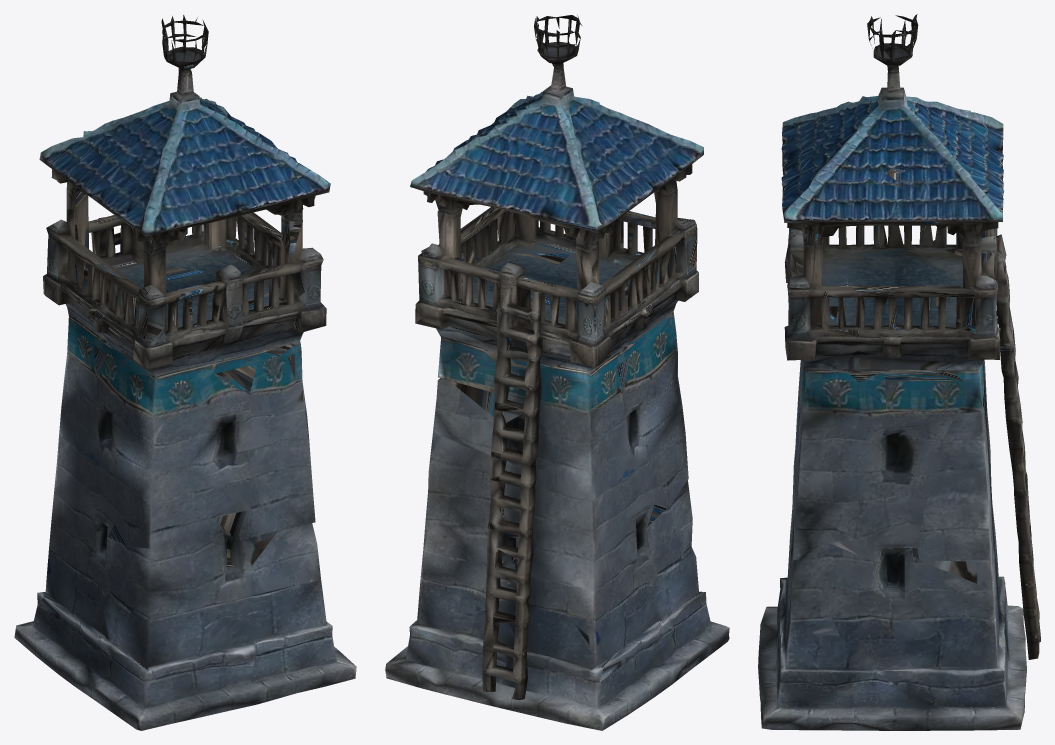
The model's file is def_watchtower.glb.
The picture shows the model from 3 angles, left to right: view 1: azimuth 30°, elevation 25°; view 2: azimuth 150°, elevation 25°; view 3: azimuth 270°, elevation 25°; orthographic projection. The views are drawn at different scales.
Visible parts, largest first — view 1: tripo_node_13529430-ecc3-4bce-8b7b-4755ecdee00c; view 2: tripo_node_13529430-ecc3-4bce-8b7b-4755ecdee00c; view 3: tripo_node_13529430-ecc3-4bce-8b7b-4755ecdee00c.
Boxes of the visible parts, left/top/right/bottom form: tripo_node_13529430-ecc3-4bce-8b7b-4755ecdee00c: left=14, top=15, right=356, bottom=730; tripo_node_13529430-ecc3-4bce-8b7b-4755ecdee00c: left=385, top=15, right=729, bottom=730; tripo_node_13529430-ecc3-4bce-8b7b-4755ecdee00c: left=758, top=14, right=1040, bottom=730.
Bounding box in the file's own units: 0.3587 × 0.973 × 0.3799.
1 material, 1 textured.
